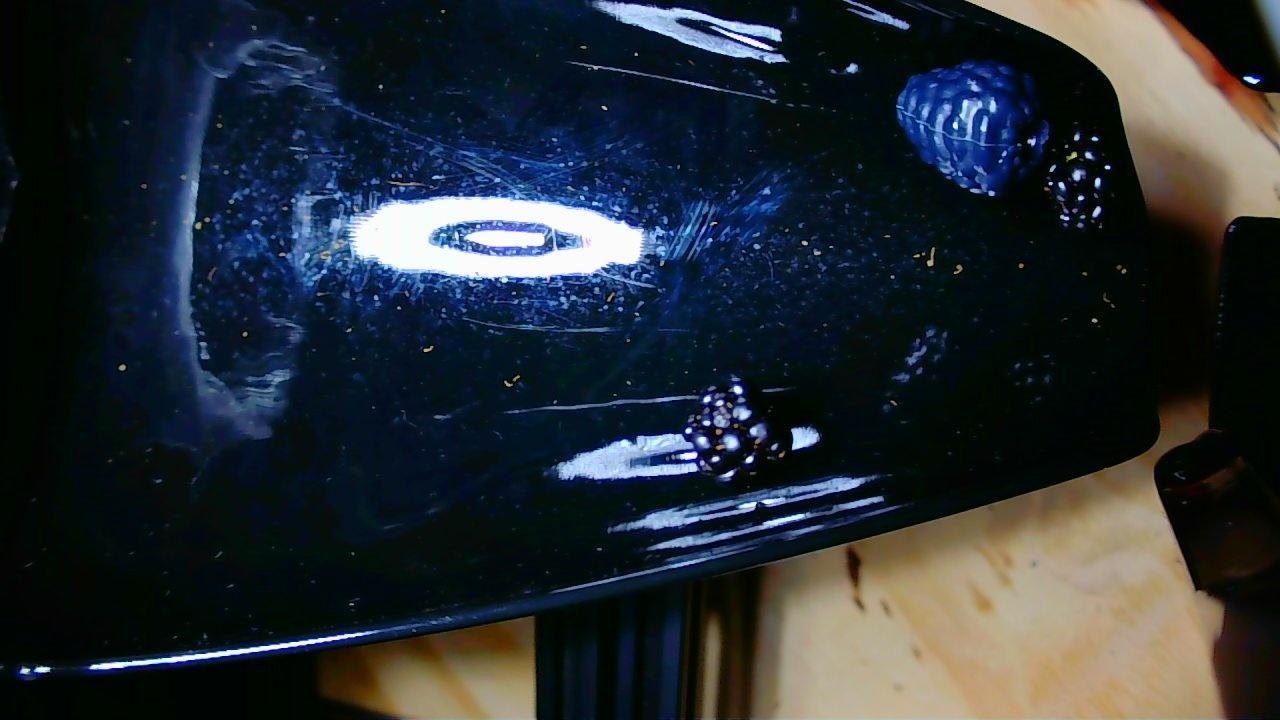berry: (897, 60, 1049, 193), (683, 377, 790, 476), (1046, 129, 1112, 229)
